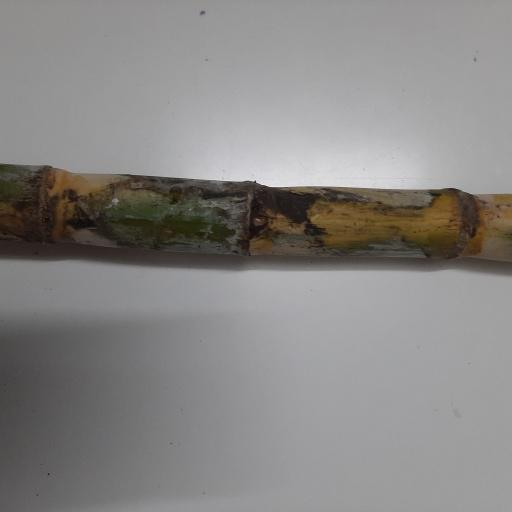Bud: (250, 212, 273, 234)
